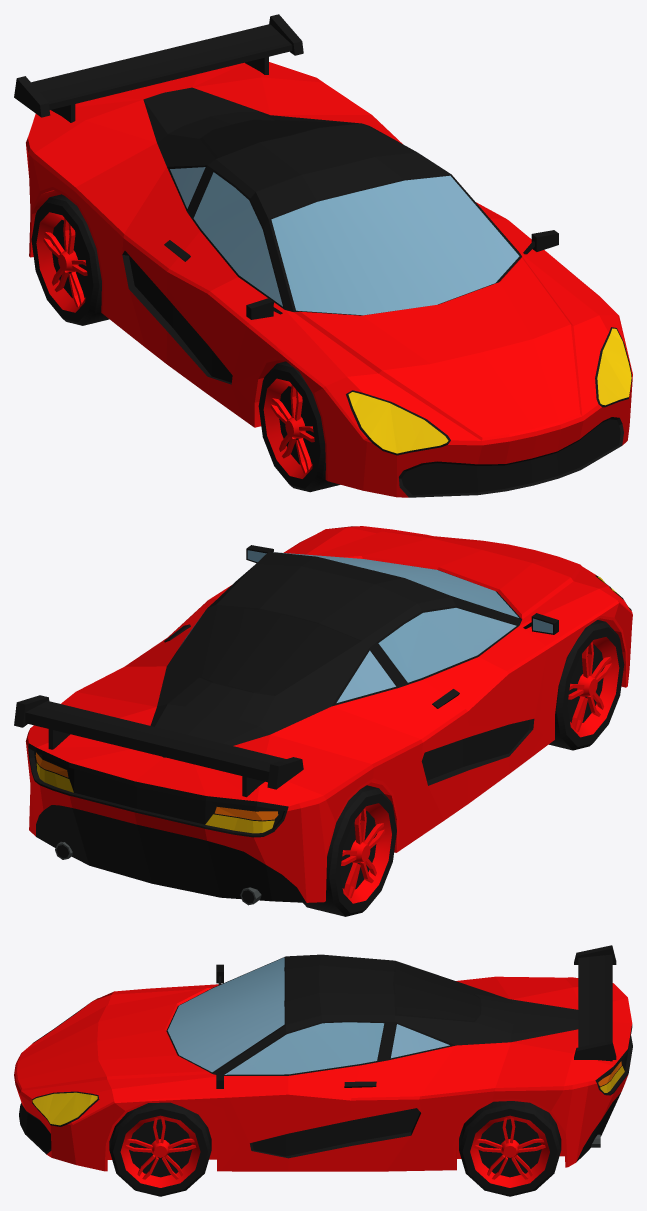
File: Sport Car_39.fbx
3 renders of one model, top to bottom at view 1: azimuth 30°, elevation 25°; view 2: azimuth 150°, elevation 25°; view 3: azimuth 270°, elevation 25°, orthographic. The views are drawn at different scales.
Parts seen in each view (by area): view 1: Sport Car_39 BR Tire; view 2: Sport Car_39 BR Tire; view 3: Sport Car_39 BR Tire.
Boxes of the visible parts, x1,y1,x2,y2 form: Sport Car_39 BR Tire: [14, 14, 632, 497]; Sport Car_39 BR Tire: [14, 526, 632, 916]; Sport Car_39 BR Tire: [14, 945, 632, 1196].
Size of the model in its own units: 209 by 137 by 474.
1 material, 1 textured.
